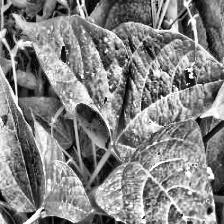Bean Rust: (111, 31, 224, 166), (8, 18, 124, 135), (92, 151, 224, 224), (28, 119, 93, 224), (206, 0, 224, 121)
